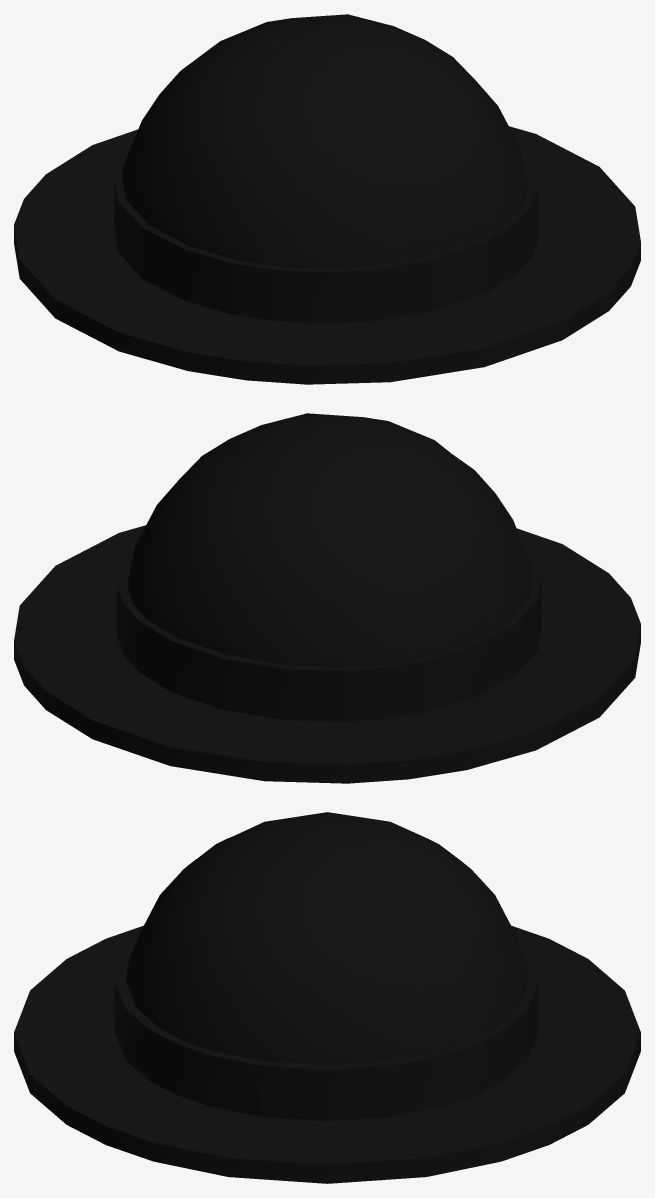
File: hat5.obj
3 renders of one model, top to bottom at view 1: azimuth 30°, elevation 25°; view 2: azimuth 150°, elevation 25°; view 3: azimuth 270°, elevation 25°, orthographic.
Visible parts, largest first — view 1: Handle1; view 2: Handle1; view 3: Handle1.
Boxes of the visible parts, x1,y1,x2,y2 form: Handle1: (14, 14, 640, 384); Handle1: (14, 413, 640, 783); Handle1: (14, 812, 640, 1183).
Size of the model in its own units: 3.48 by 1.34 by 3.48.
